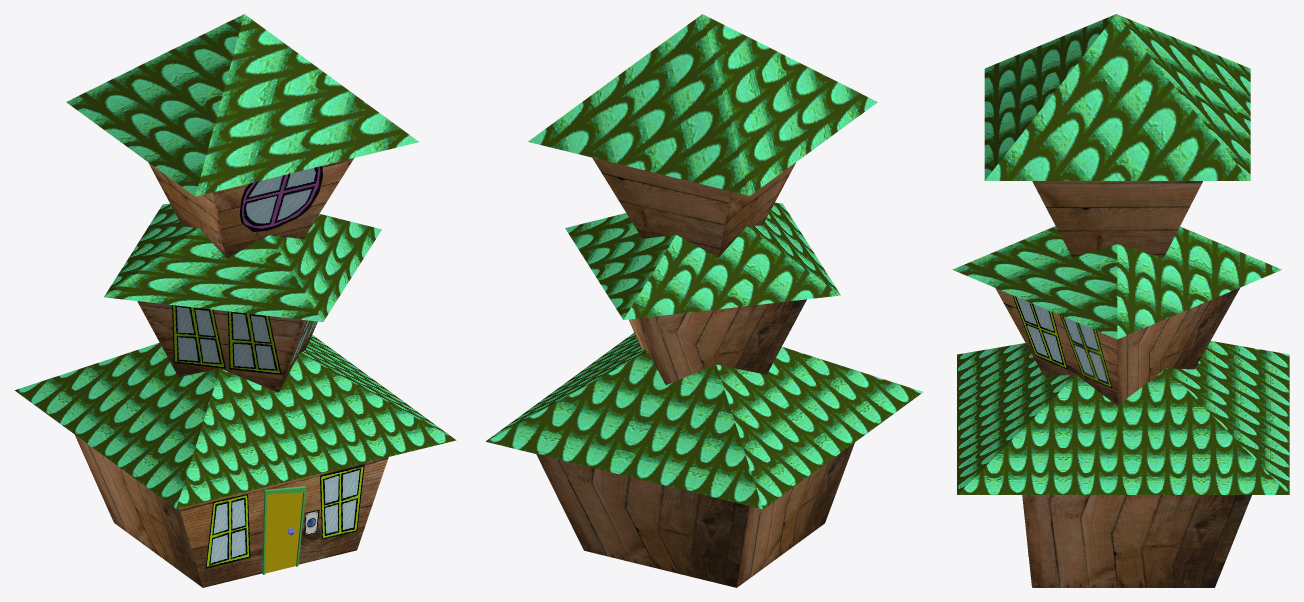
The model's file is House9.fbx.
3 renders of one model, left to right at view 1: azimuth 30°, elevation 25°; view 2: azimuth 150°, elevation 25°; view 3: azimuth 270°, elevation 25°, orthographic. The views are drawn at different scales.
Parts seen in each view (by area): view 1: House 9, House 9.002, House 9.001; view 2: House 9; view 3: House 9.
Boxes of the visible parts, x1,y1,x2,y2 form: House 9: [15, 14, 456, 587]; House 9.002: [205, 494, 250, 568]; House 9.001: [320, 464, 364, 539]; House 9: [486, 14, 923, 587]; House 9: [952, 14, 1289, 587].
Bounding box in the file's own units: 70.7 × 125 × 70.88.
